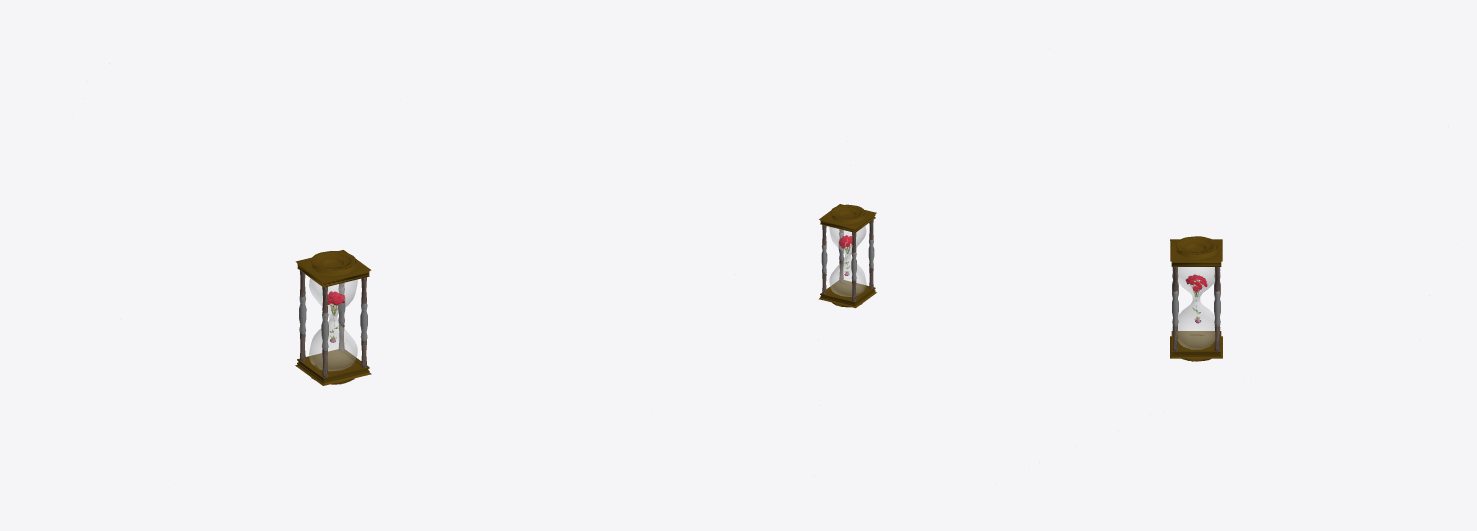
The model's file is hourglass.glb.
The picture shows the model from 3 angles, left to right: view 1: azimuth 30°, elevation 25°; view 2: azimuth 150°, elevation 25°; view 3: azimuth 270°, elevation 25°; orthographic projection. The views are drawn at different scales.
Parts seen in each view (by area): view 1: Hourglass/Effector, Cube, Cube.001; view 2: Hourglass/Effector, Cube, Cube.001; view 3: Hourglass/Effector, Cube, Cube.001.
Part boxes in pixels (x1,y1,x2,y2): Hourglass/Effector: (309, 278, 357, 371); Cube: (295, 250, 371, 287); Cube.001: (295, 349, 371, 385); Hourglass/Effector: (829, 226, 866, 296); Cube: (819, 204, 876, 232); Cube.001: (818, 280, 876, 308); Hourglass/Effector: (1172, 267, 1220, 349); Cube: (1170, 236, 1222, 266); Cube.001: (1170, 331, 1222, 361).
Bounding box in the file's own units: 163 × 191 × 178.
11 materials, 1 textured.
